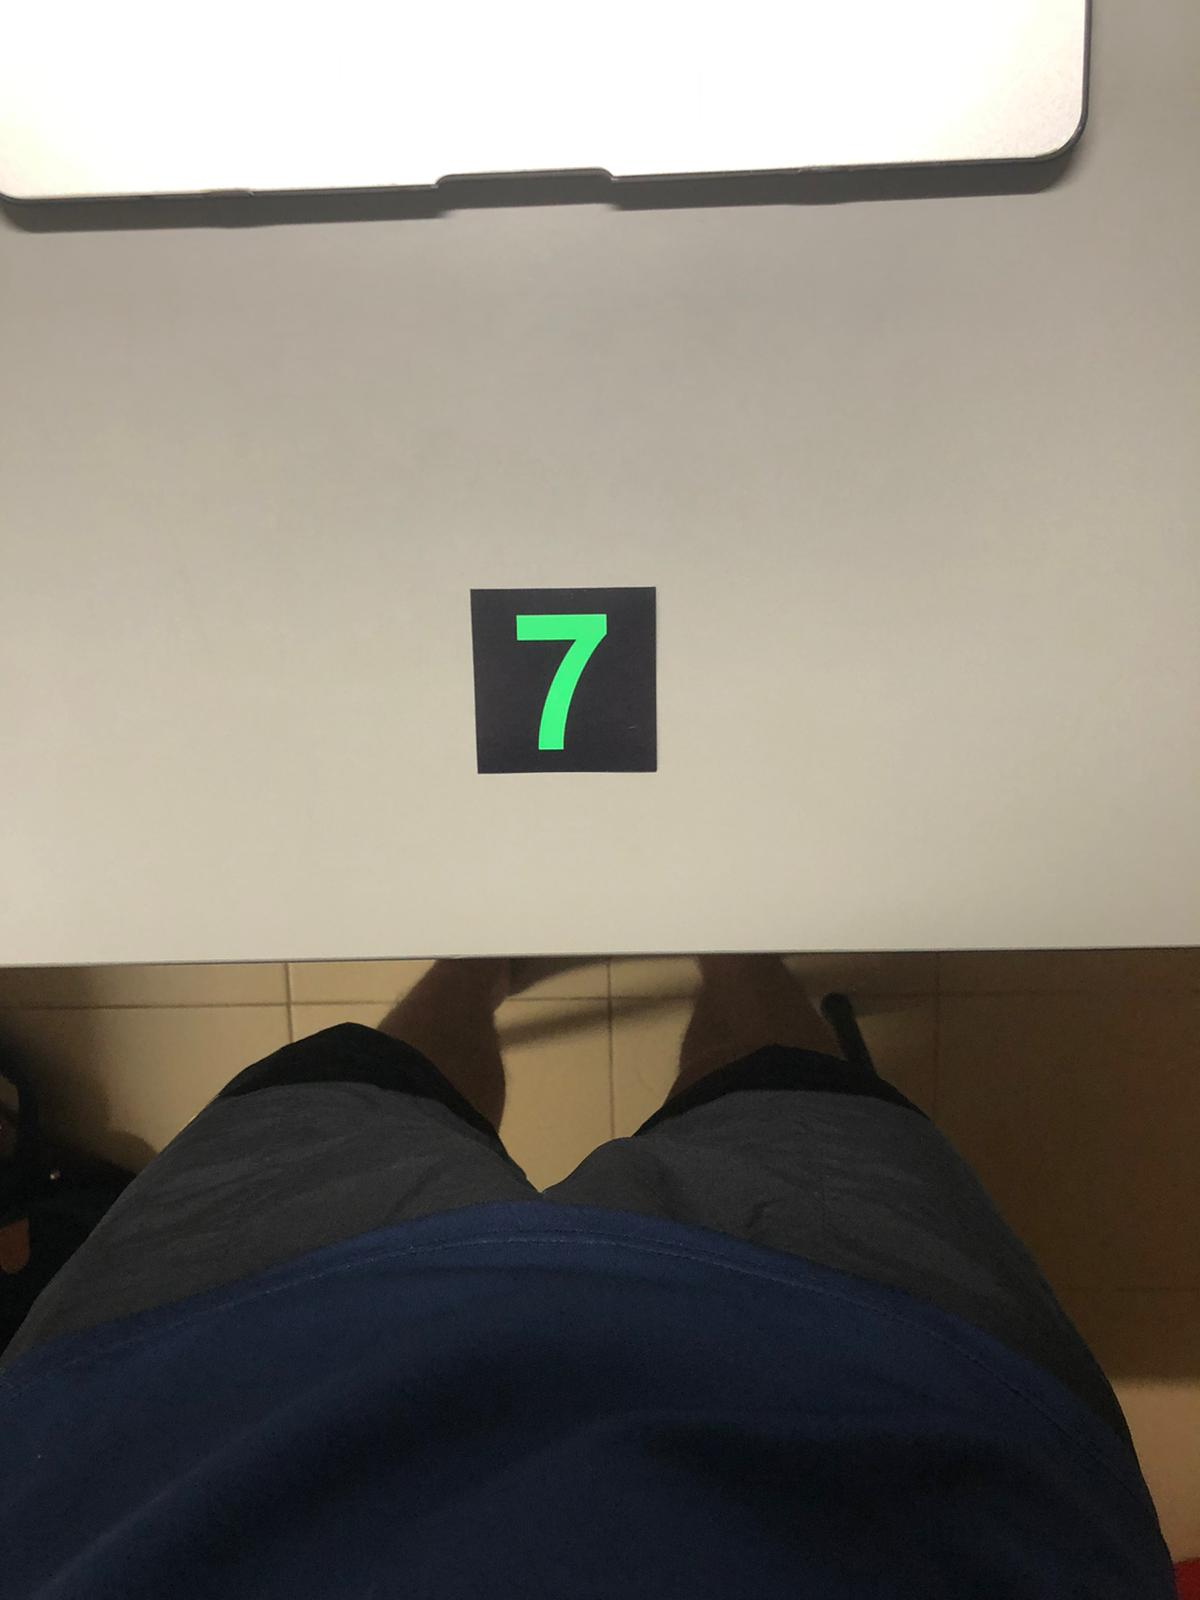Number 7: (476, 591, 655, 774)
